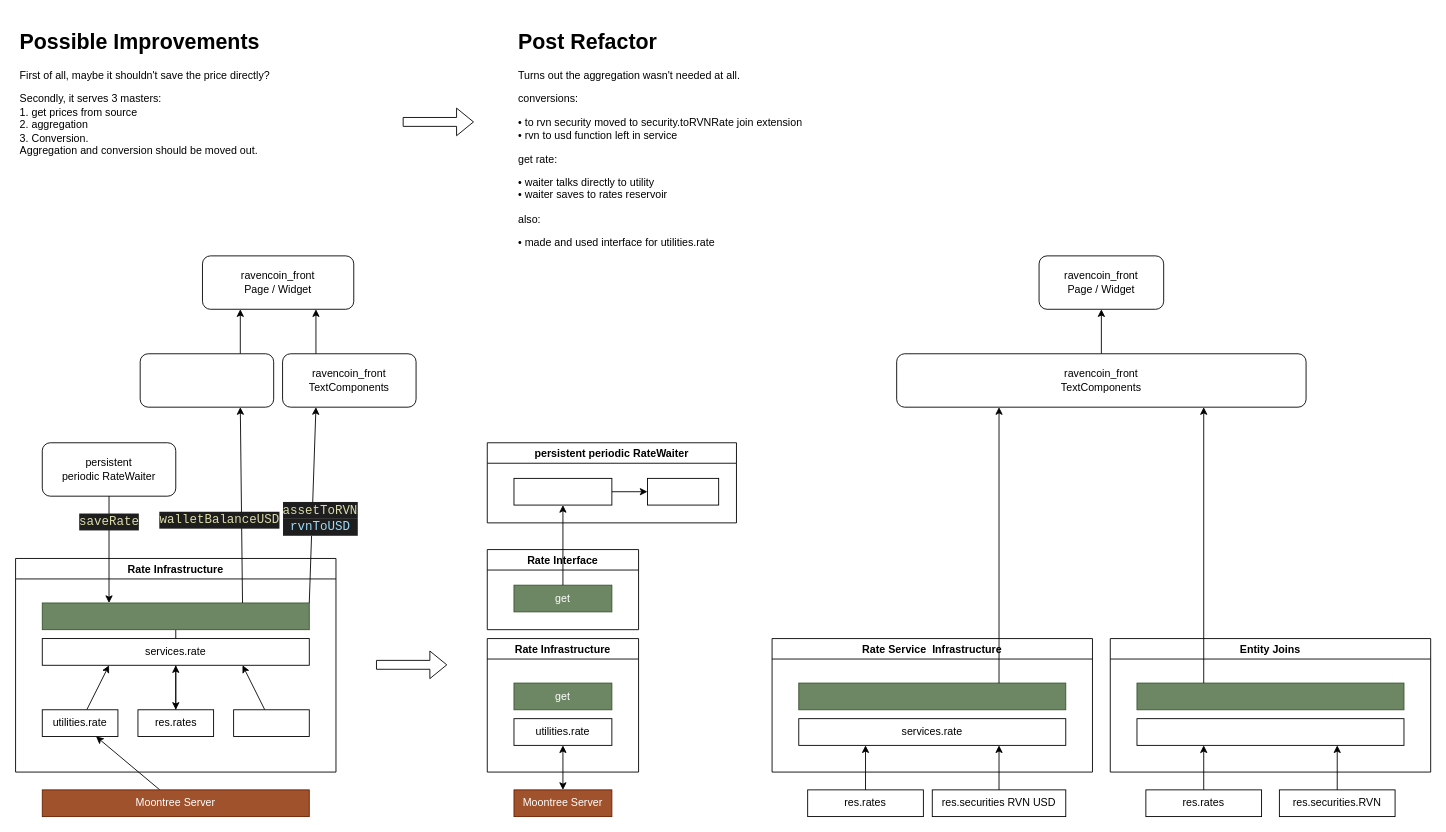
Image size: 1446x832. Some labels were removed from this diagram. Here are the shapes that lost their labels. From the top down, the centre of each, then its label:
[206,380]: ravencoin_front Current lookup module
[562,491]: periodically get
[683,491]: res.save
[175,616]: method(s)
[932,696]: rvnToUSD
[1270,696]: toRVNRate
[271,722]: res.securities
[1270,731]: Security
